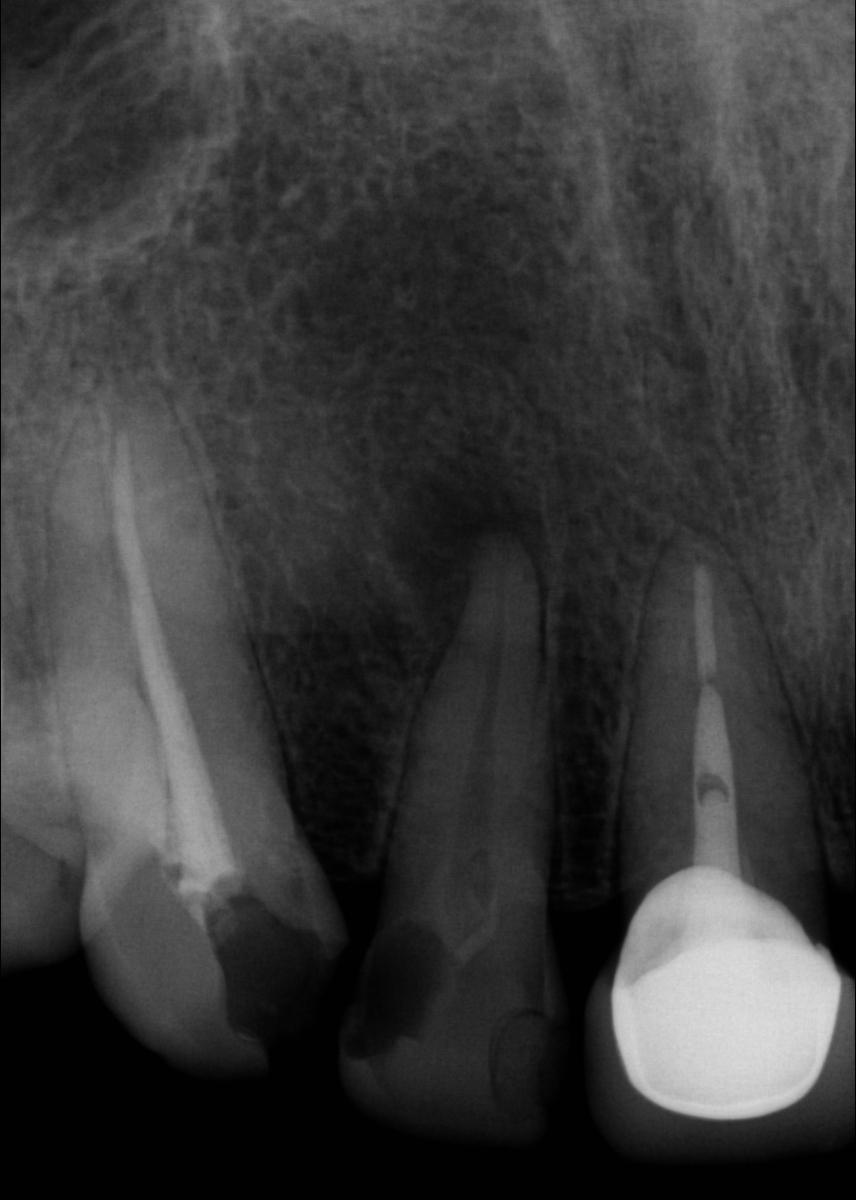Furcation Involvement: (386, 446, 549, 650)
